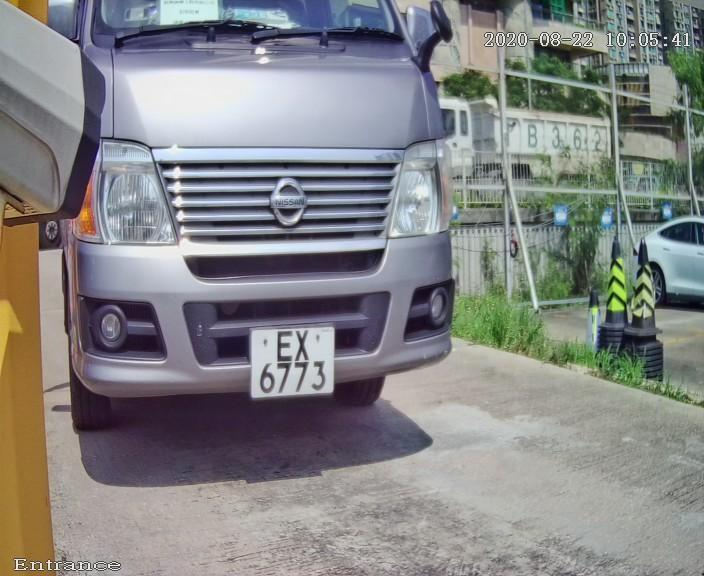Car: (16, 8, 485, 492)
License Plate: (239, 319, 340, 402)
